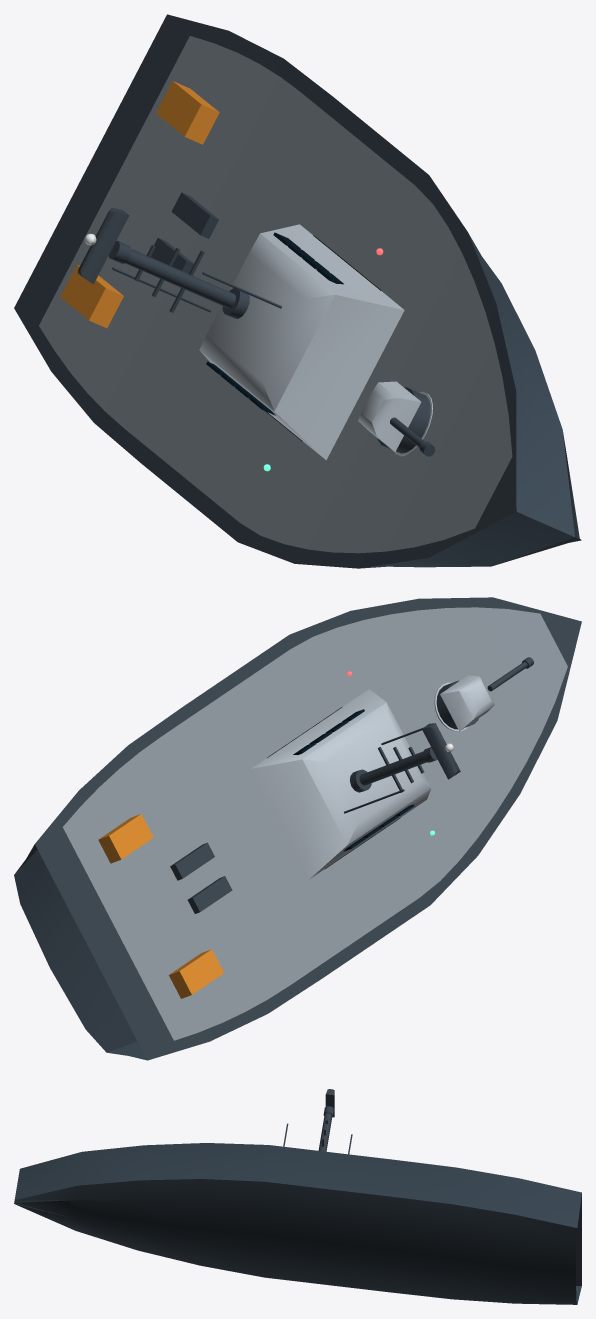
Rendered from wreck_raider.glb.
3 views of the same model, one above another, from view 1: azimuth 30°, elevation 25°; view 2: azimuth 150°, elevation 25°; view 3: azimuth 270°, elevation 25° (orthographic). The views are drawn at different scales.
Visible parts, largest first — view 1: deck_plate, deck, superstructure, hull, turret_shield_1, decoy_port, decoy_stbd, mast, exhaust_vents, radar_plate, side_win, turret_base_1; view 2: deck_plate, deck, superstructure, hull_under, turret_shield_1, exhaust_vents, decoy_stbd, decoy_port, radar_plate, mast, side_win; view 3: hull_under, hull, deck, mast.
Boxes of the visible parts, x1,y1,x2,y2 form: deck_plate: (39,36,512,553); deck: (14,14,516,568); superstructure: (199,224,404,460); hull: (359,232,574,568); turret_shield_1: (358,381,421,451); decoy_port: (156,81,219,144); decoy_stbd: (60,264,123,328); mast: (125,249,235,308); exhaust_vents: (151,192,218,273); radar_plate: (77,207,129,284); side_win: (206,232,343,415); turret_base_1: (377,387,430,453); deck_plate: (63,607,567,1040); deck: (35,597,581,1060); superstructure: (251,689,431,879); hull_under: (14,850,137,1052); turret_shield_1: (440,675,494,731); exhaust_vents: (170,842,232,913); decoy_stbd: (169,949,223,998); decoy_port: (98,814,153,863); radar_plate: (422,723,460,779); mast: (359,751,426,785); side_win: (293,709,414,851); hull_under: (14,1179,577,1304); hull: (14,1143,581,1304); deck: (576,1194,581,1285); mast: (318,1113,332,1151).
Bounding box in the file's own units: 3.43 × 3.1 × 8.99.
